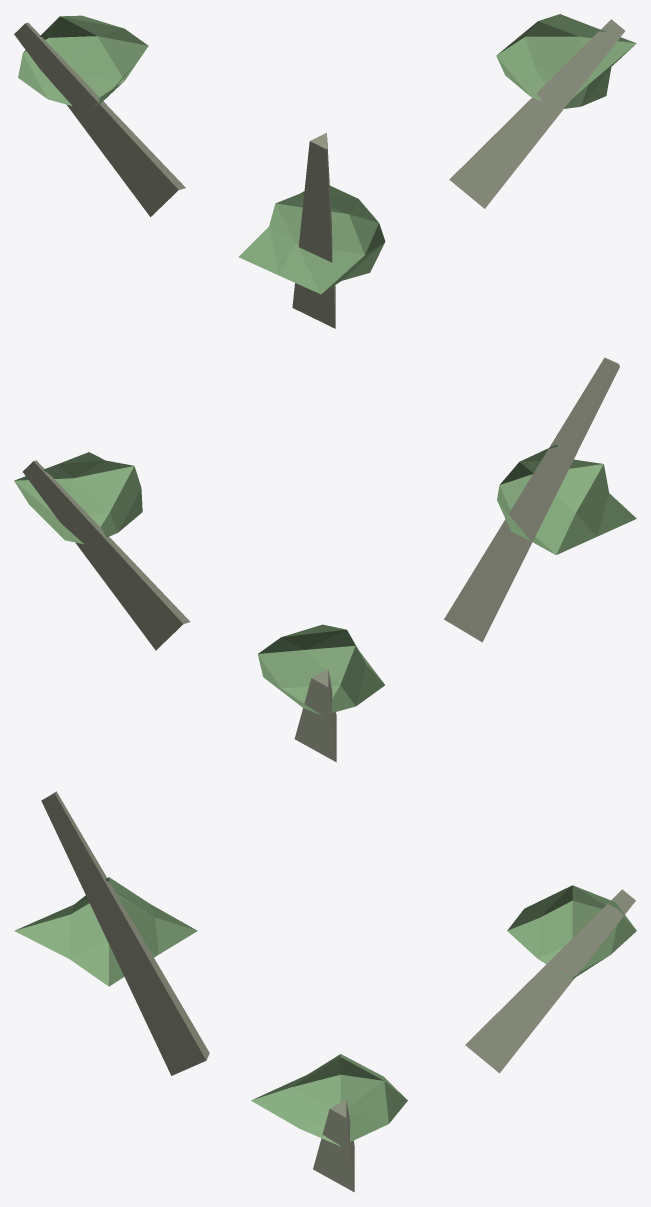
The model's file is bramble_v24.glb.
3 views of the same model, one above another, from view 1: azimuth 30°, elevation 25°; view 2: azimuth 150°, elevation 25°; view 3: azimuth 270°, elevation 25° (orthographic). The views are drawn at different scales.
Parts seen in each view (by area): view 1: lod0; view 2: lod0; view 3: lod0.
Boxes of the visible parts, x1,y1,x2,y2 form: lod0: (14,14,636,328); lod0: (14,357,636,762); lod0: (14,791,636,1192).
Size of what is drawn, in the model's own units: 0.5204 by 0.2511 by 0.5586.
